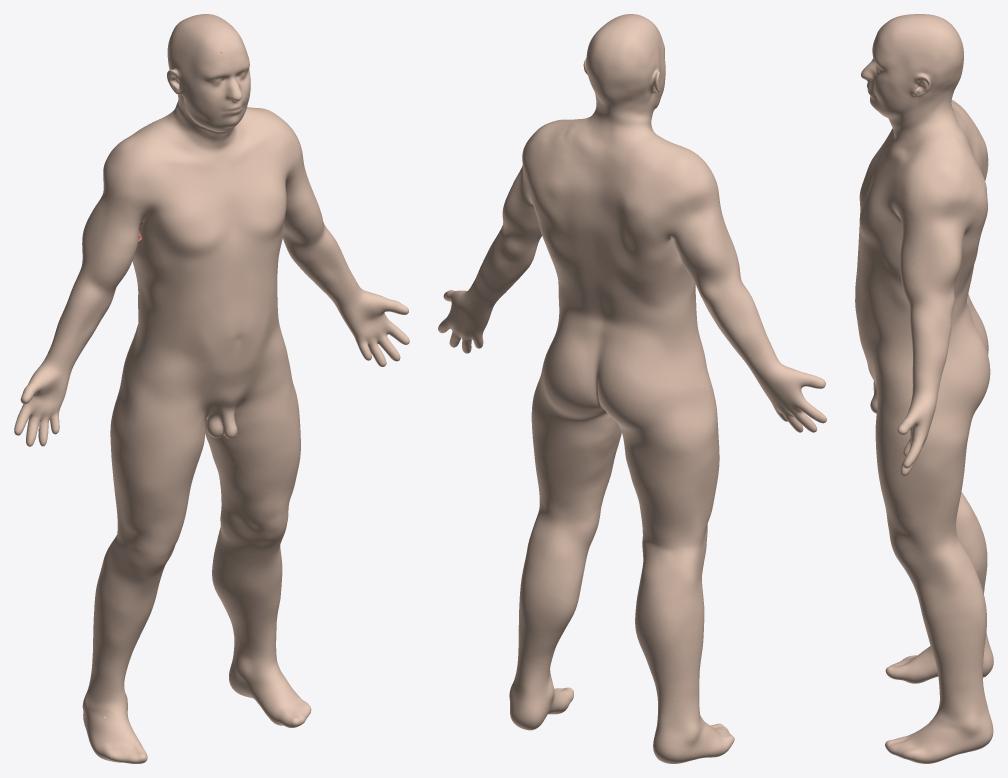
File: detail-male.glb
3 views of the same model, side by side, from view 1: azimuth 30°, elevation 25°; view 2: azimuth 150°, elevation 25°; view 3: azimuth 270°, elevation 25° (orthographic). The views are drawn at different scales.
Parts seen in each view (by area): view 1: skin_hi; view 2: skin_hi; view 3: skin_hi.
Part boxes in pixels (x1=…): skin_hi: x1=14, y1=14, x2=409, y2=763; skin_hi: x1=438, y1=14, x2=826, y2=763; skin_hi: x1=855, y1=14, x2=993, y2=763.
Size of the model in its own units: 1 by 1.75 by 0.3123.
